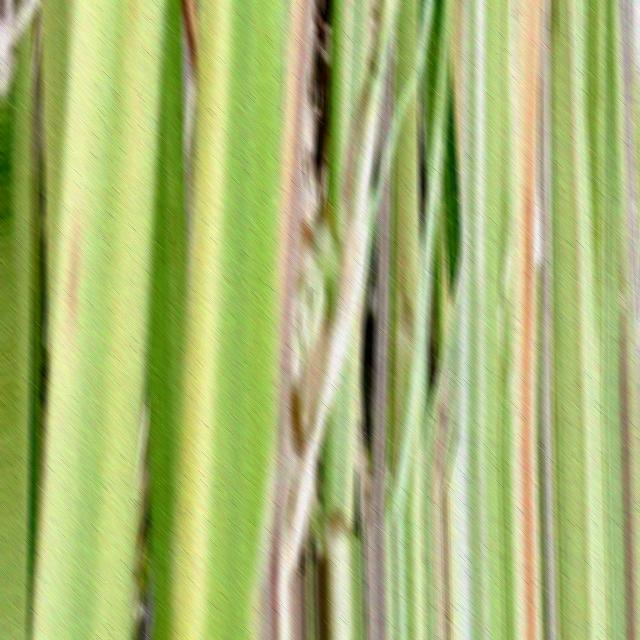NBS: (62, 185, 81, 361), (125, 0, 137, 58)
